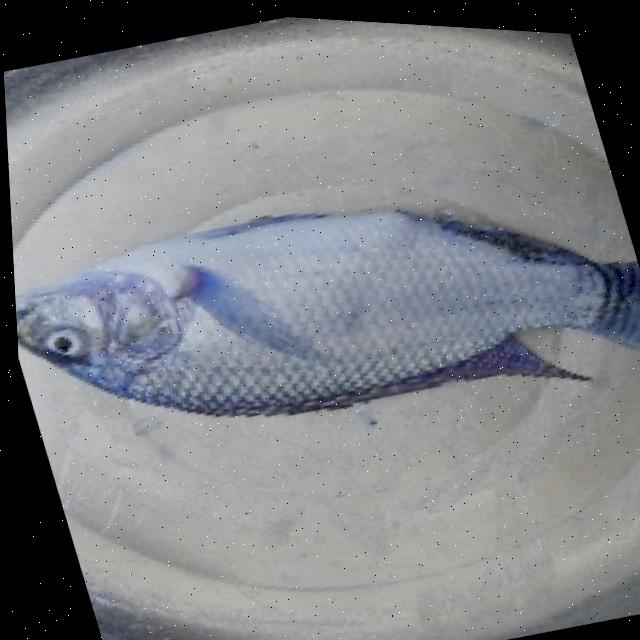Fresh: (4, 106, 640, 485)
